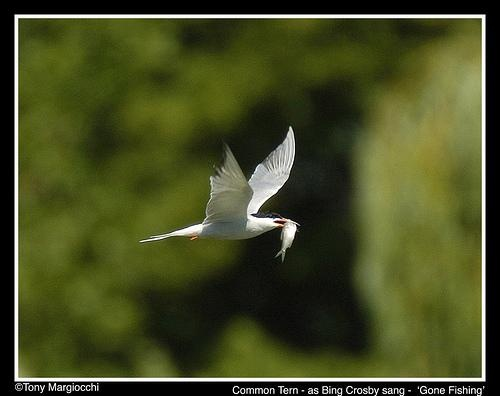bird: (137, 124, 311, 252)
